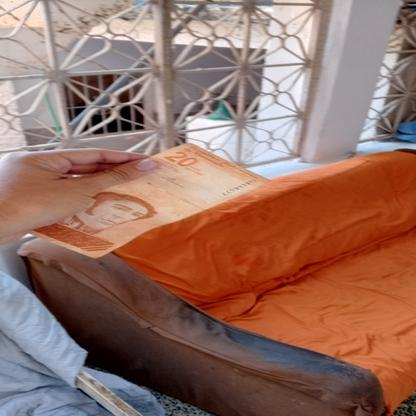twenty-front-vef: (25, 143, 269, 259)
